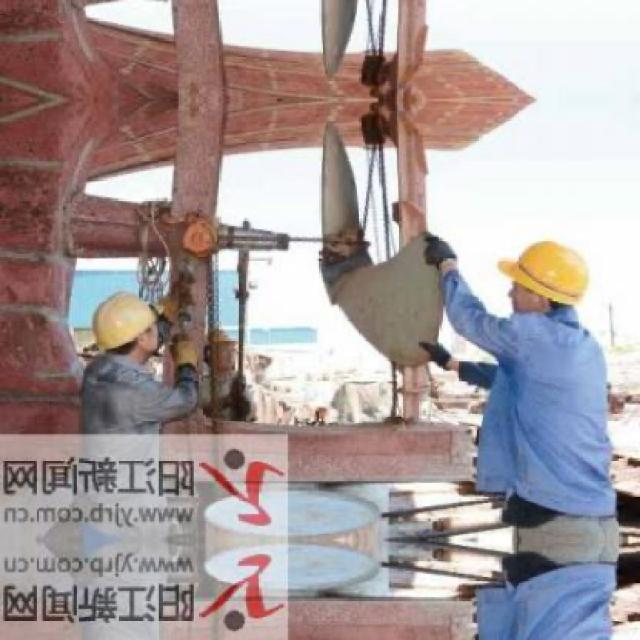con casco: (467, 239, 588, 354), (83, 278, 178, 376)
